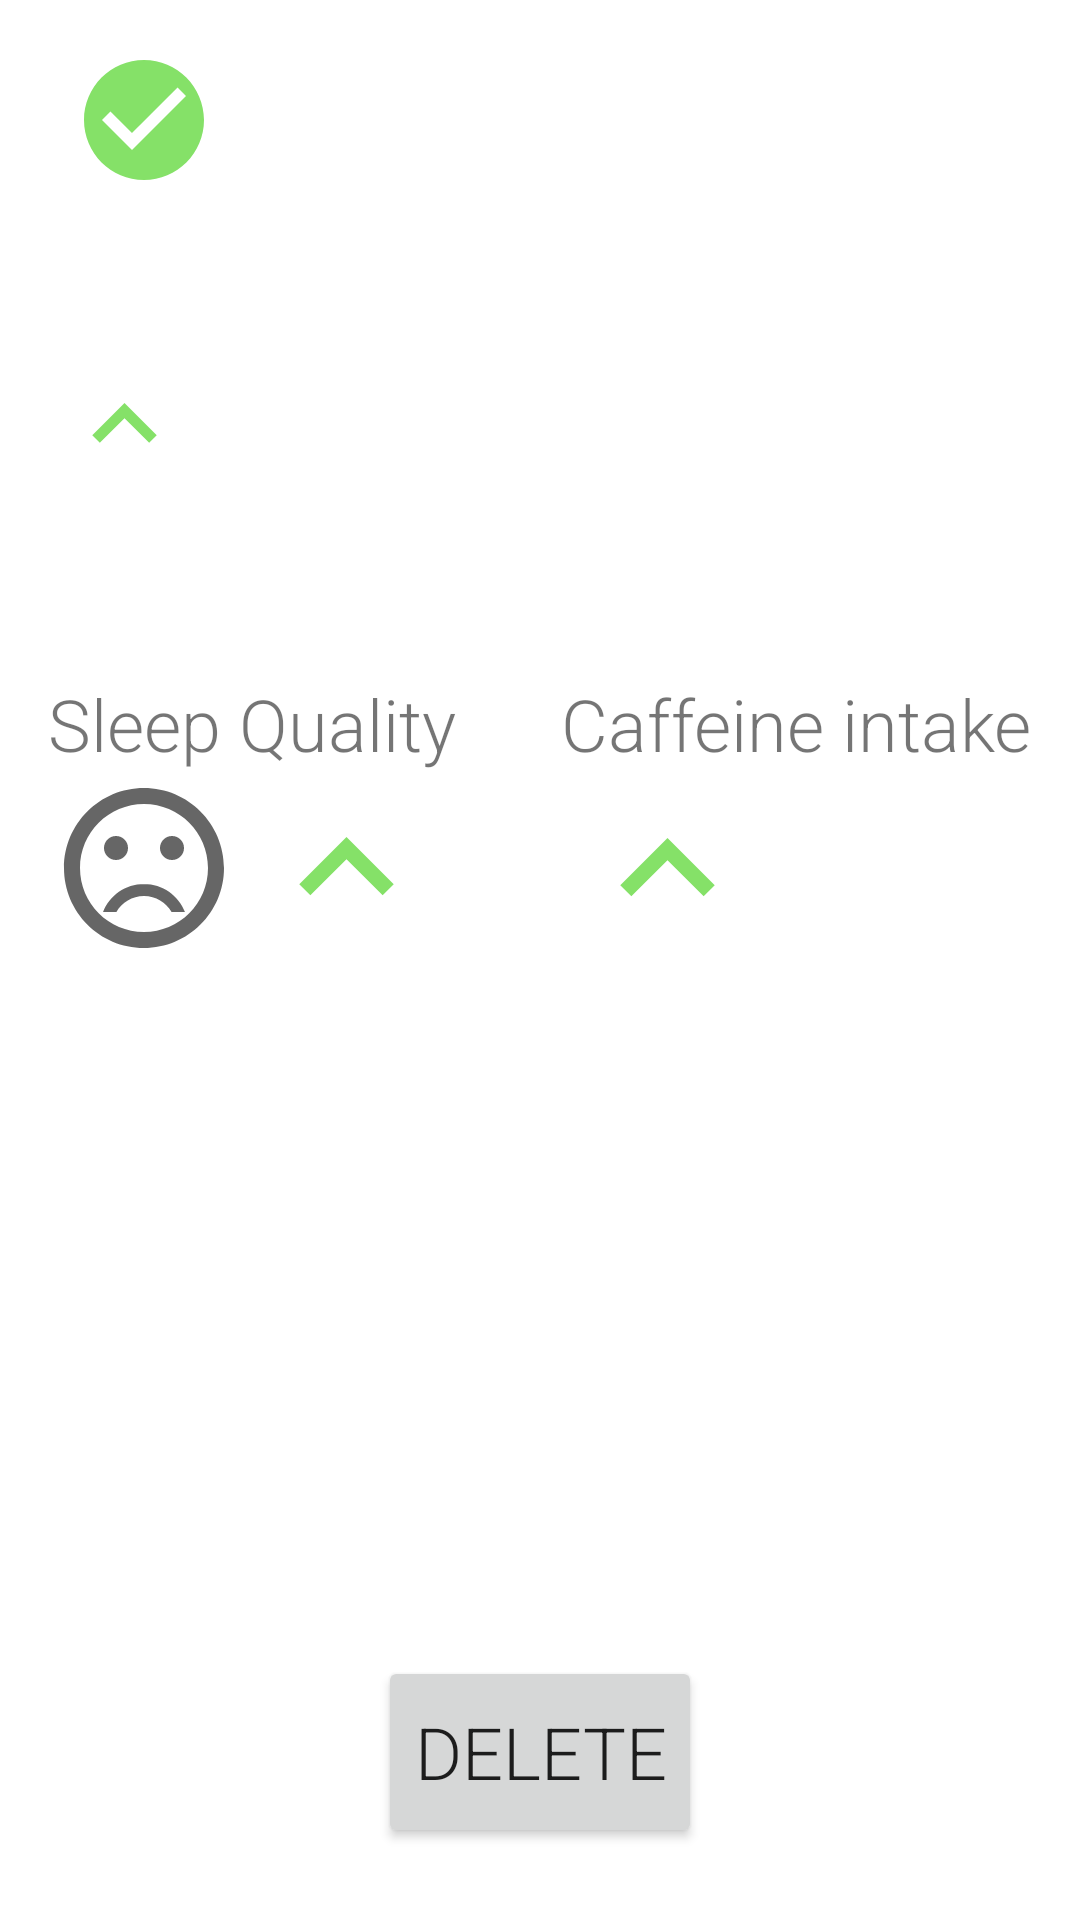

Icon click points for this 1080px×1920px phone screenshot, format (x=x, y=y):
check: (x=144, y=120)
expand less: (x=124, y=423), (x=346, y=866), (x=667, y=867)
sentiment very dissatisfied: (x=144, y=868)
